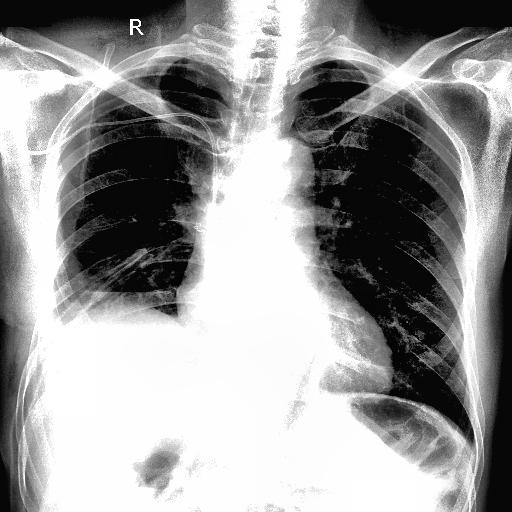10- Pleural effusion: (32, 202, 177, 424), (28, 272, 200, 406), (42, 245, 192, 367)
13- Pulmonary fibrosis: (67, 230, 169, 312), (49, 252, 147, 331), (76, 237, 162, 316)
7- Lung Opacity: (41, 278, 172, 389), (49, 252, 147, 331)
